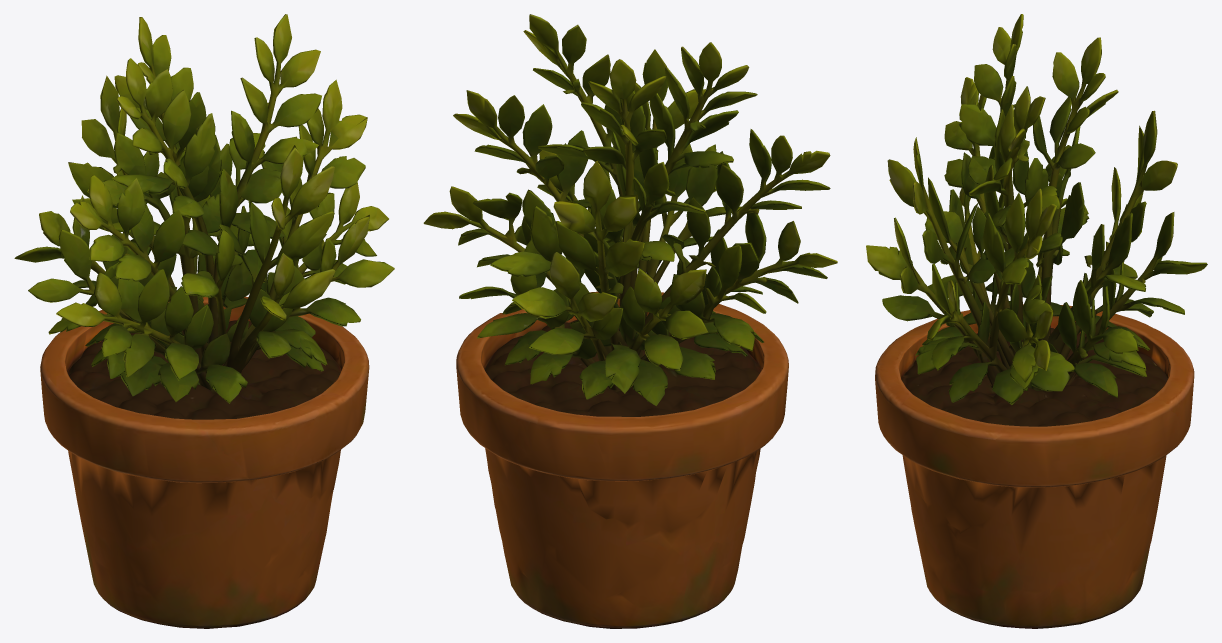
The model's file is trim_potted_plant.glb.
The picture shows the model from 3 angles, left to right: view 1: azimuth 30°, elevation 25°; view 2: azimuth 150°, elevation 25°; view 3: azimuth 270°, elevation 25°; orthographic projection. The views are drawn at different scales.
Parts seen in each view (by area): view 1: tripo_node_74e39767-5878-401e-b258-ff04afc55857; view 2: tripo_node_74e39767-5878-401e-b258-ff04afc55857; view 3: tripo_node_74e39767-5878-401e-b258-ff04afc55857.
Boxes of the visible parts, x1,y1,x2,y2 form: tripo_node_74e39767-5878-401e-b258-ff04afc55857: (14,14,394,628); tripo_node_74e39767-5878-401e-b258-ff04afc55857: (423,14,837,628); tripo_node_74e39767-5878-401e-b258-ff04afc55857: (866,14,1207,628).
Size of the model in its own units: 0.6883 by 0.9782 by 0.5655.
1 material, 1 textured.
